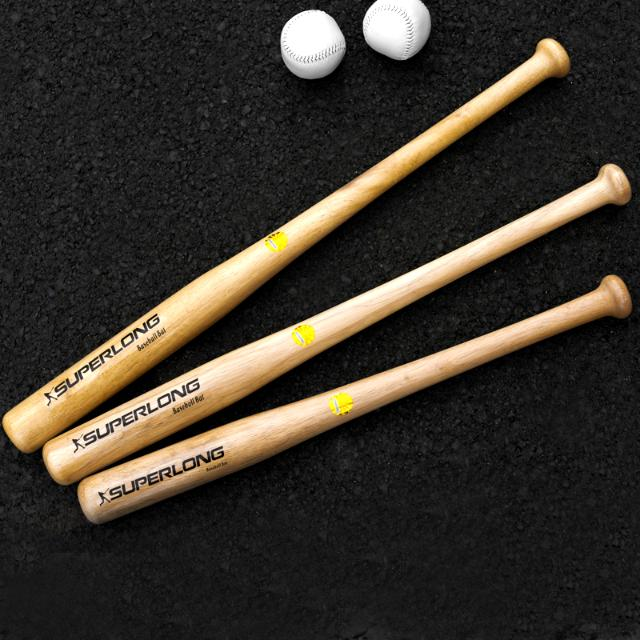baseball bat: (0, 31, 638, 551)
